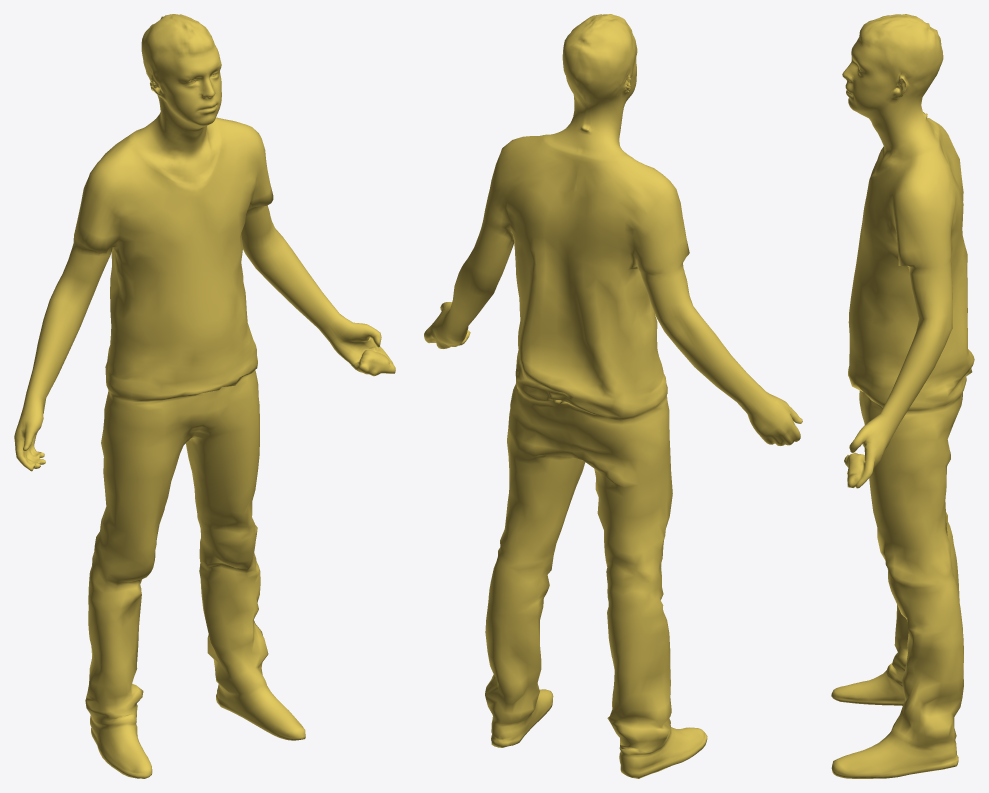
The model's file is student.obj.
3 views of the same model, side by side, from view 1: azimuth 30°, elevation 25°; view 2: azimuth 150°, elevation 25°; view 3: azimuth 270°, elevation 25° (orthographic).
Parts seen in each view (by area): view 1: autumn_casualman_04; view 2: autumn_casualman_04; view 3: autumn_casualman_04.
Part boxes in pixels (bbox=[...]): autumn_casualman_04: bbox=[14, 14, 395, 778]; autumn_casualman_04: bbox=[424, 14, 802, 778]; autumn_casualman_04: bbox=[831, 14, 974, 778].
Size of the model in its own units: 35.16 by 64.75 by 11.75.
